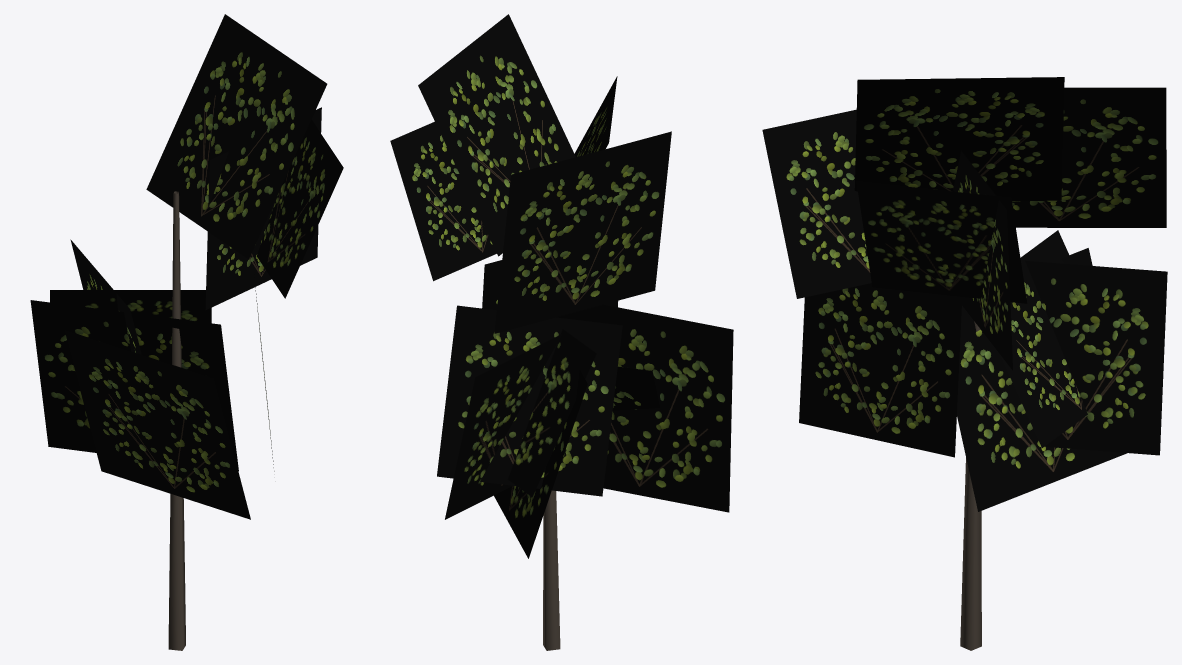
File: tpl_bog_birch_stunted.glb
3 renders of one model, left to right at view 1: azimuth 30°, elevation 25°; view 2: azimuth 150°, elevation 25°; view 3: azimuth 270°, elevation 25°, orthographic. The views are drawn at different scales.
Visible parts, largest first — view 1: tpl_bog_birch_stunted; view 2: tpl_bog_birch_stunted; view 3: tpl_bog_birch_stunted.
Part boxes in pixels (x1=…): tpl_bog_birch_stunted: x1=30, y1=14, x2=343, y2=650; tpl_bog_birch_stunted: x1=390, y1=14, x2=733, y2=650; tpl_bog_birch_stunted: x1=762, y1=77, x2=1167, y2=650.
Size of the model in its own units: 7.6 by 12.71 by 7.57.
Materials: 2 (1 with a texture image).
